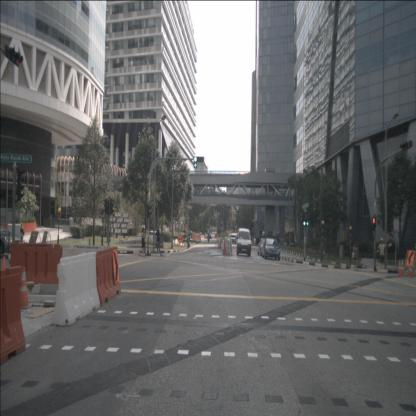barrier: (51, 251, 100, 326), (0, 272, 26, 366), (8, 242, 63, 286), (118, 245, 162, 294), (92, 247, 121, 306), (7, 224, 23, 241), (21, 223, 36, 232)
cone: (16, 266, 32, 309), (0, 256, 11, 295), (397, 259, 403, 277), (399, 259, 405, 277), (408, 261, 413, 277), (224, 242, 228, 256)
